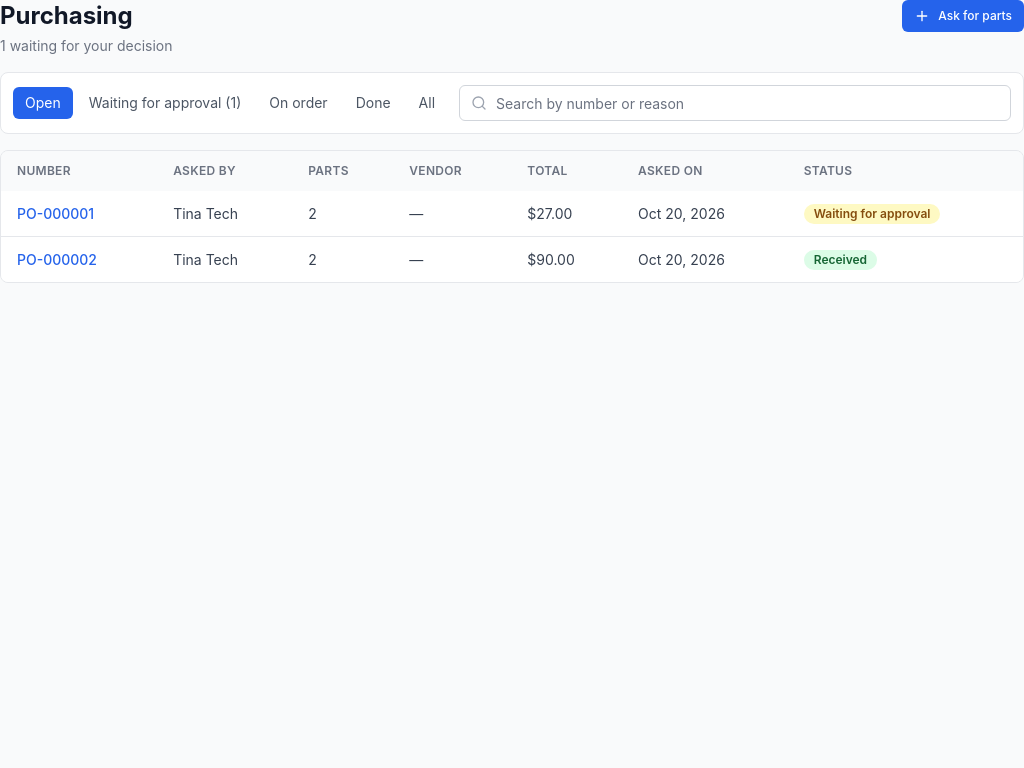
Test case: PurchasingPage › will not send a request with no parts, or with a quantity of nothing
The image size is (1024, 768).
Click the button "Ask for parts". click: (963, 16)
box: [902, 0, 1023, 32]
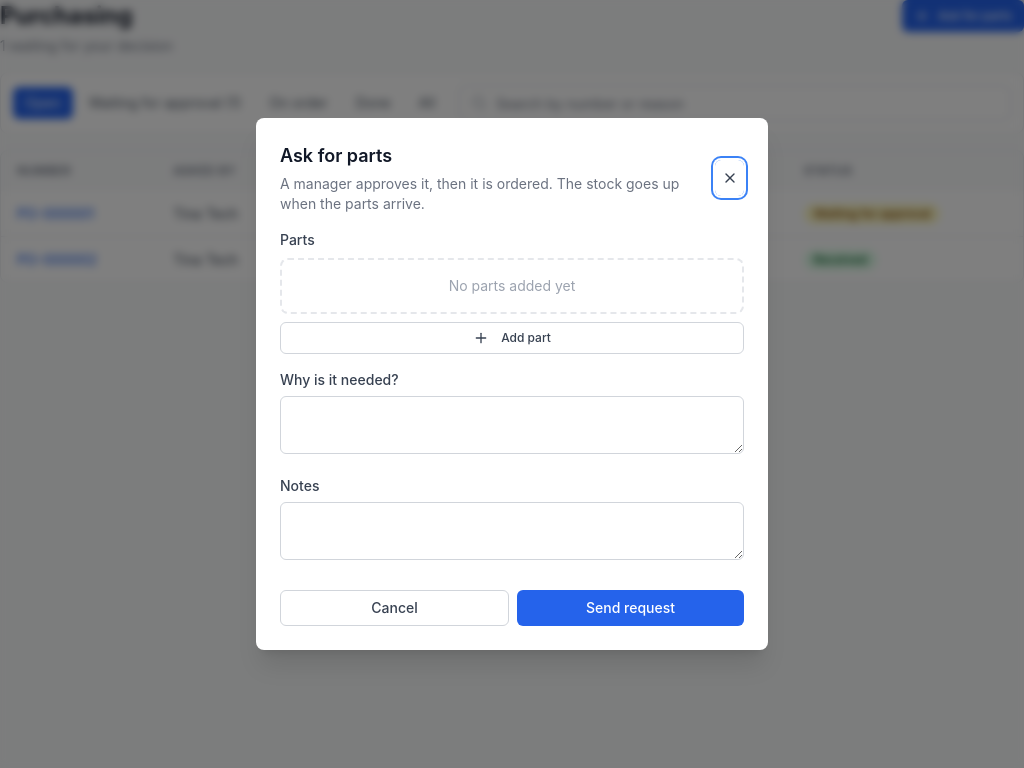
Click the button "Send request". click: (630, 608)
box: [517, 590, 744, 626]
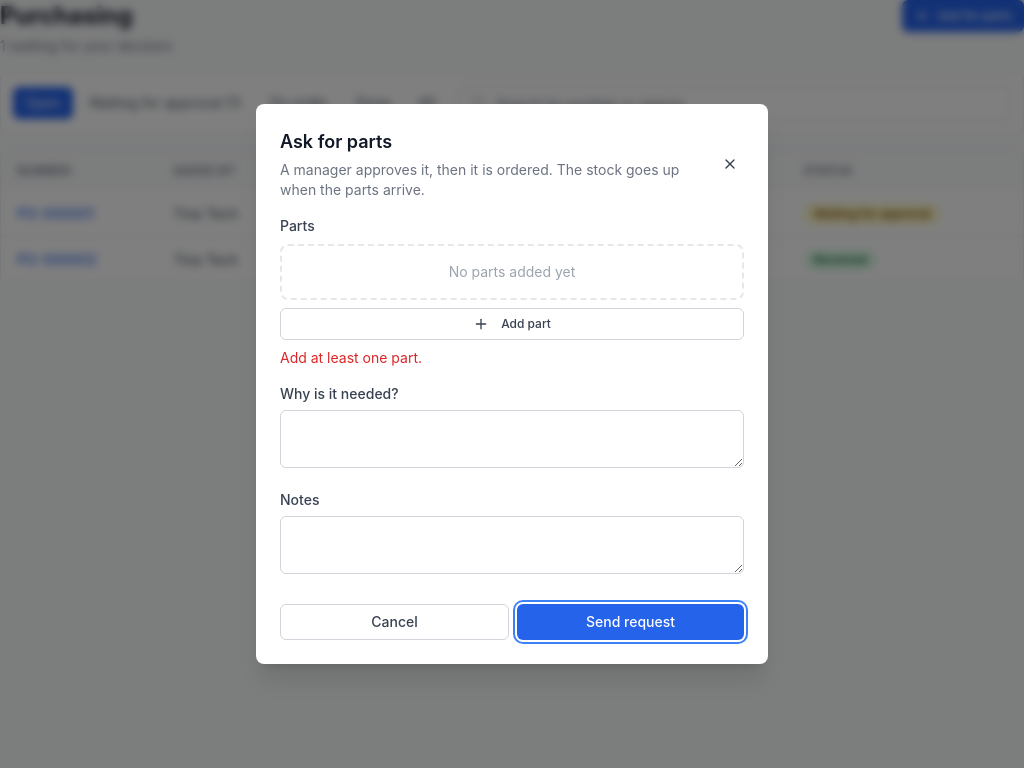
Result: the text "Add at least one part." is shown at [280, 349, 422, 366]
